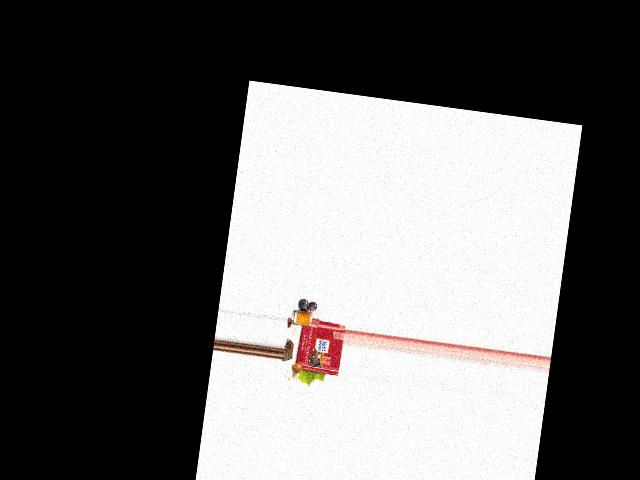chocolate: (294, 319, 344, 377)
